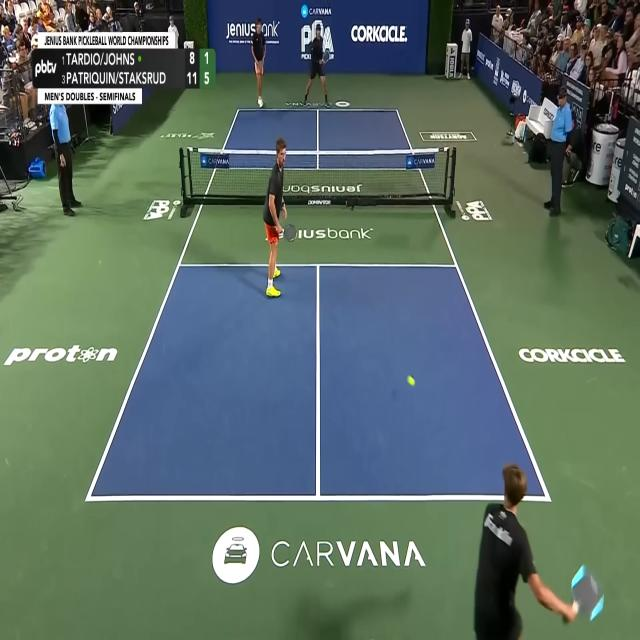ball: (406, 375, 415, 387)
